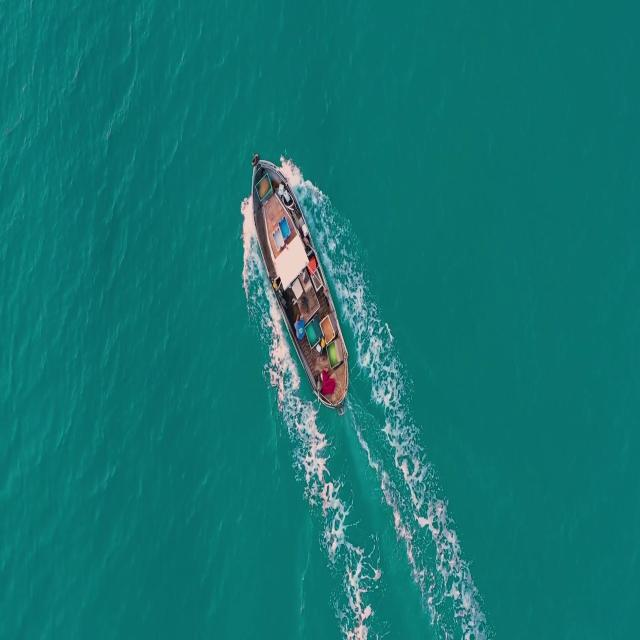ship: (248, 147, 351, 412)
